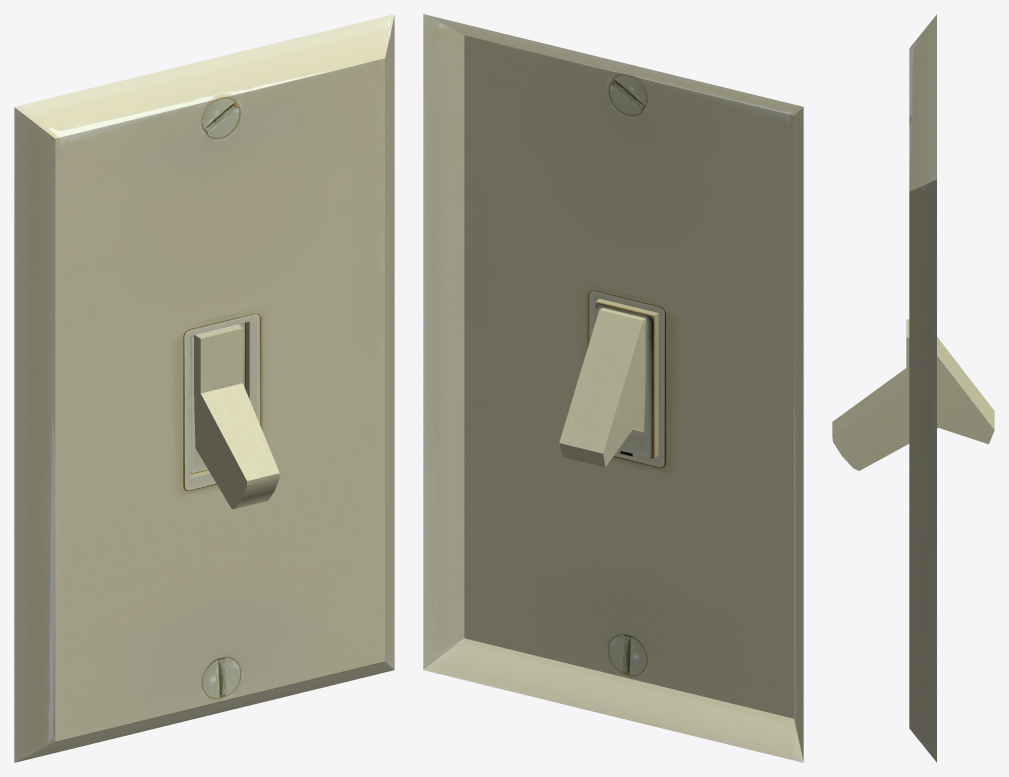
The model's file is Electric_Switch.FBX.
3 renders of one model, left to right at view 1: azimuth 30°, elevation 25°; view 2: azimuth 150°, elevation 25°; view 3: azimuth 270°, elevation 25°, orthographic. The views are drawn at different scales.
Parts seen in each view (by area): view 1: SM_Electric_Switch_00, Electric_Switch; view 2: SM_Electric_Switch_00, Electric_Switch; view 3: SM_Electric_Switch_00, Electric_Switch.
Boxes of the visible parts, x1=… form: SM_Electric_Switch_00: x1=14, y1=14, x2=394, y2=762; Electric_Switch: x1=193, y1=324, x2=279, y2=509; SM_Electric_Switch_00: x1=423, y1=14, x2=803, y2=762; Electric_Switch: x1=559, y1=308, x2=645, y2=467; SM_Electric_Switch_00: x1=909, y1=14, x2=936, y2=762; Electric_Switch: x1=832, y1=319, x2=994, y2=470.
Size of the model in its own units: 9.1 by 14.99 by 3.78.
Materials: 1 (1 with a texture image).
